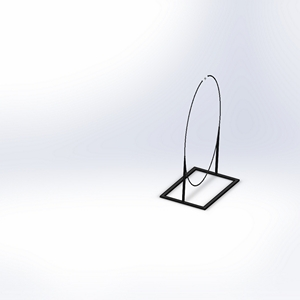circle: (157, 72, 241, 211)
